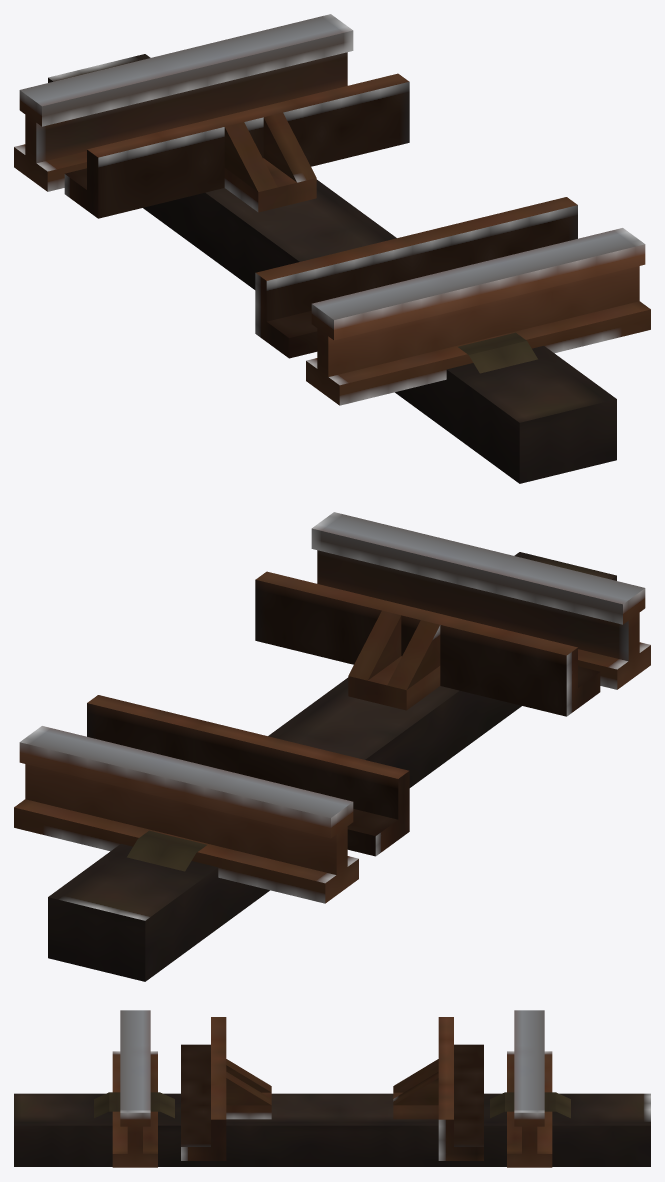
File: mvp_ir_ct_rail.obj
The picture shows the model from 3 angles, top to bottom: view 1: azimuth 30°, elevation 25°; view 2: azimuth 150°, elevation 25°; view 3: azimuth 270°, elevation 25°; orthographic projection. The views are drawn at different scales.
Parts seen in each view (by area): view 1: RAIL_RIGHT_mvpRail, RAIL_LEFT_mvpRail, RAIL_BASE_mvpRail; view 2: RAIL_LEFT_mvpRail, RAIL_RIGHT_mvpRail, RAIL_BASE_mvpRail; view 3: RAIL_BASE_mvpRail, RAIL_RIGHT_mvpRail, RAIL_LEFT_mvpRail.
Part boxes in pixels (box(x1,y1,x2,y2)): RAIL_RIGHT_mvpRail: box(14, 14, 409, 218); RAIL_LEFT_mvpRail: box(255, 197, 650, 405); RAIL_BASE_mvpRail: box(48, 54, 616, 483); RAIL_LEFT_mvpRail: box(255, 512, 650, 716); RAIL_RIGHT_mvpRail: box(14, 695, 409, 903); RAIL_BASE_mvpRail: box(48, 552, 616, 981); RAIL_BASE_mvpRail: box(14, 1092, 650, 1166); RAIL_RIGHT_mvpRail: box(393, 1010, 552, 1167); RAIL_LEFT_mvpRail: box(112, 1010, 271, 1167).
Size of the model in its own units: 1 by 0.4062 by 2.62.
1 material, 1 textured.
